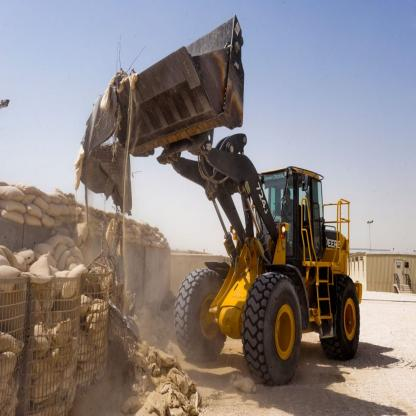bull_dozer/loader/grader: (97, 9, 361, 386)
